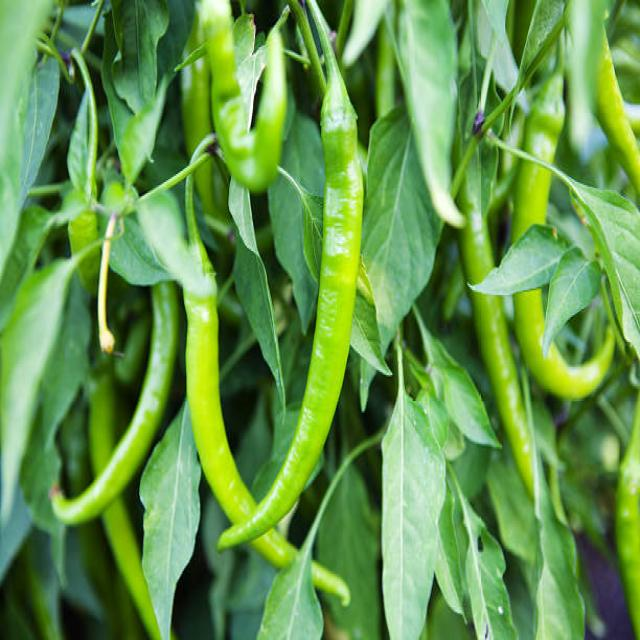Unripe: (216, 58, 363, 552), (172, 232, 361, 607), (460, 211, 533, 499)
